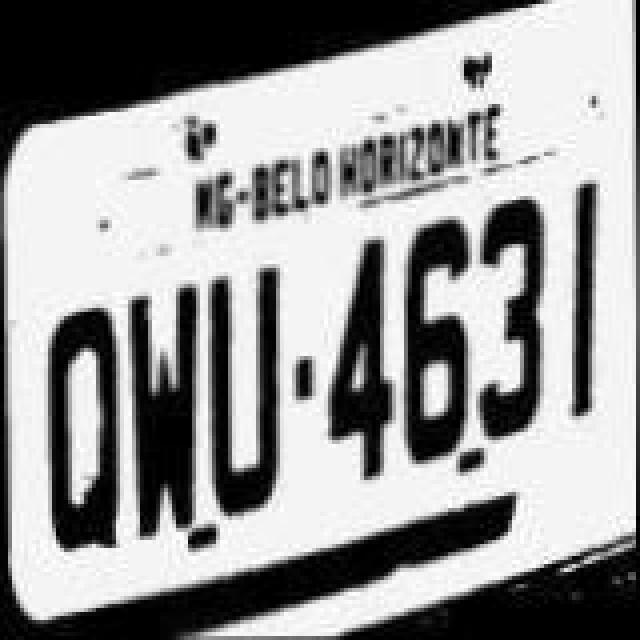1: (552, 162, 612, 430)
3: (478, 176, 558, 456)
4: (324, 234, 400, 514)
6: (396, 214, 480, 482)
Q: (38, 302, 130, 570)
U: (198, 258, 282, 534)
W: (128, 274, 208, 546)
